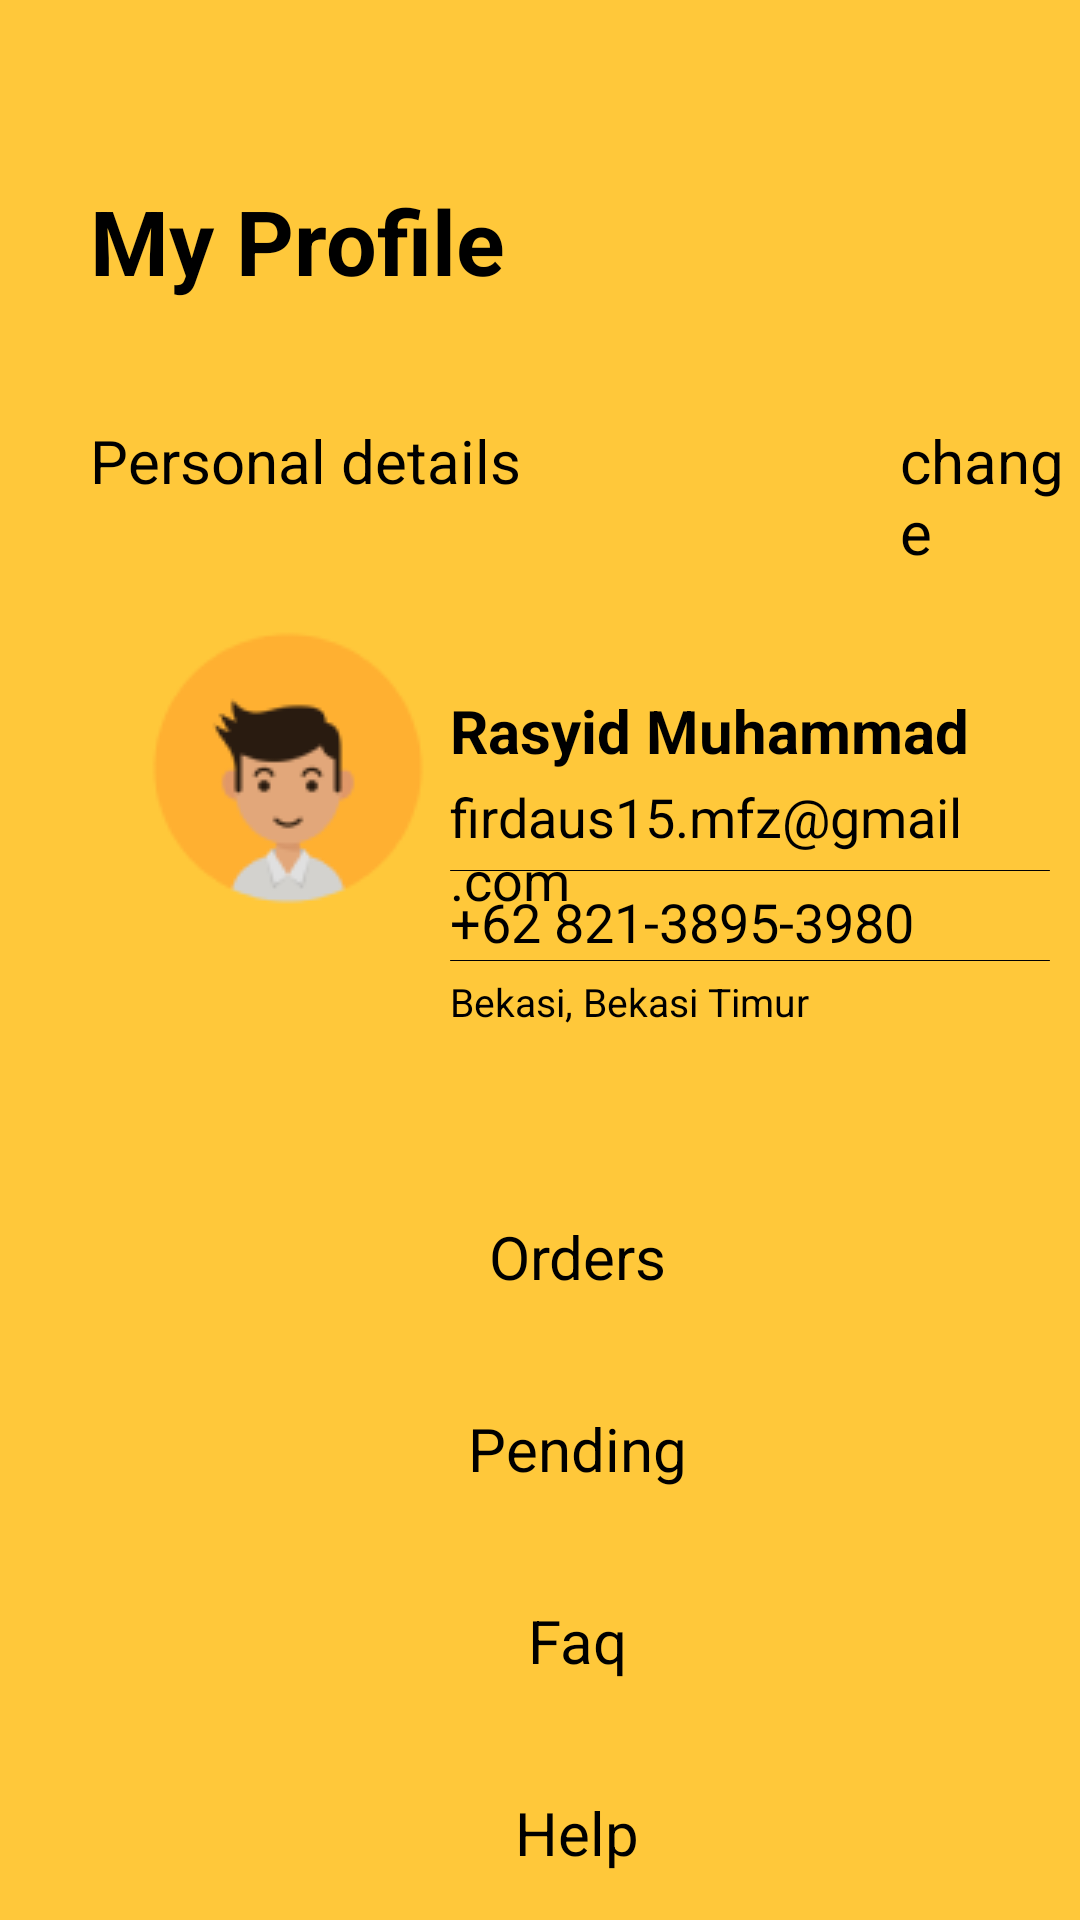

Named icons in this screenshot (1080px×1920px) and their bounding boxes, bbox(x1, y1, x2, y2):
prof: bbox(153, 633, 423, 904)
